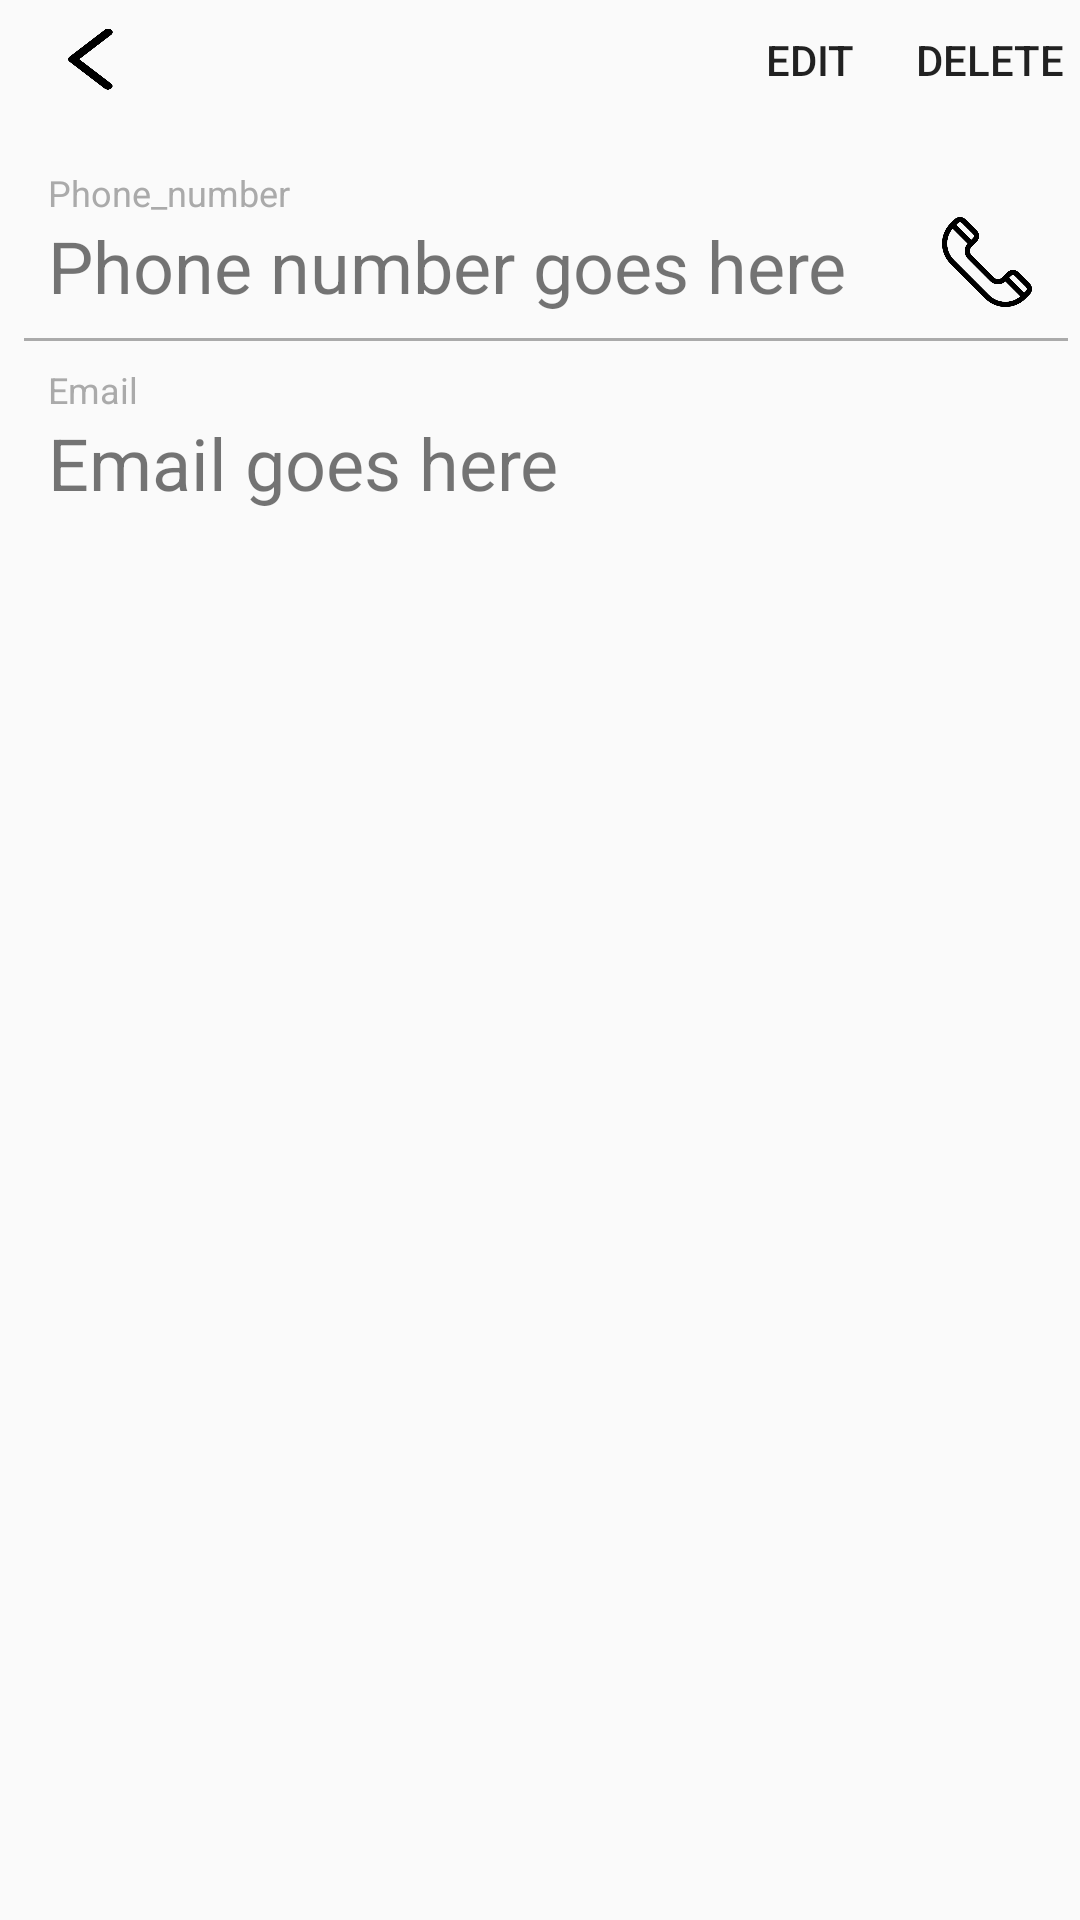

Icon bounding boxes for this 1080w x 1920h phone screenshot, format (x1, y1, x2, y2):
back arrow: (68, 29, 113, 90)
telephone: (942, 217, 1032, 307)
